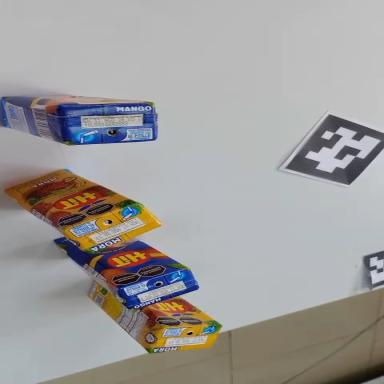HIT-MANGO: (44, 203, 205, 333), (0, 96, 157, 145)
HIT-MORA: (0, 149, 166, 276), (81, 281, 225, 364)
cara_F: (49, 204, 190, 314), (0, 148, 138, 254), (4, 90, 151, 110), (142, 294, 221, 329)
